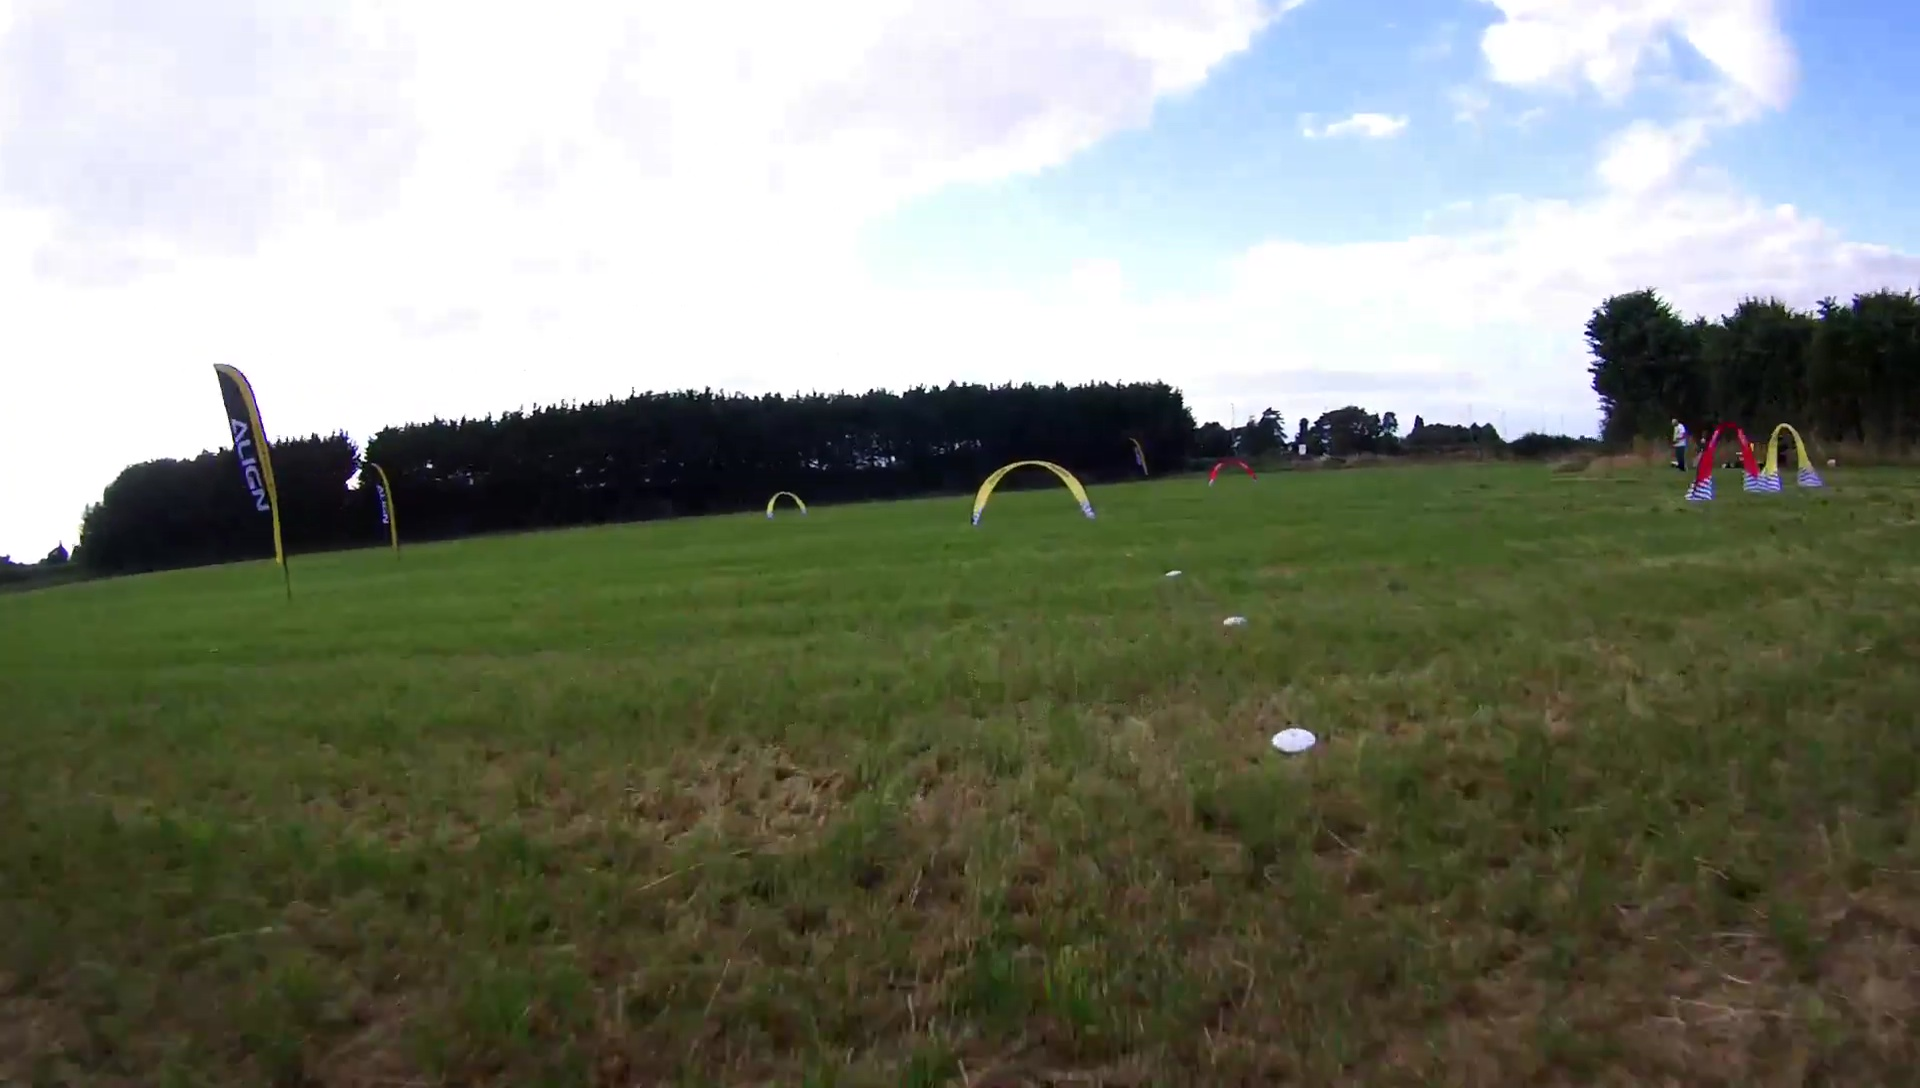gate: (971, 458, 1098, 528), (1685, 421, 1760, 502), (1758, 425, 1818, 497), (1207, 454, 1261, 487), (766, 491, 806, 521)
